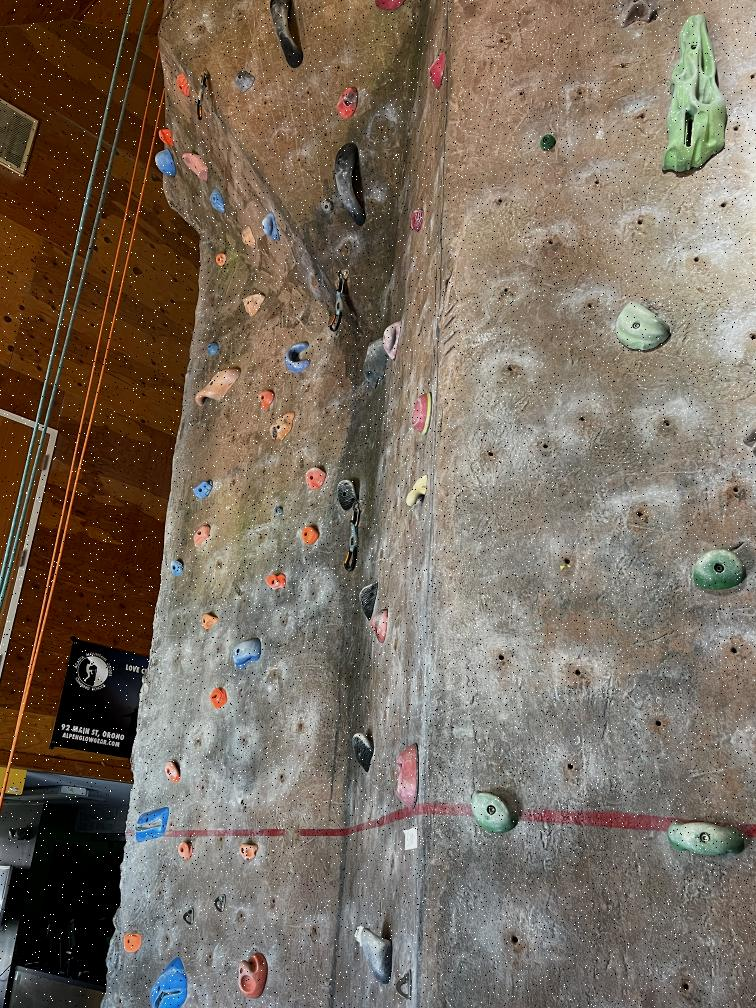Crimp: (598, 290, 682, 366), (185, 476, 222, 502), (426, 49, 446, 93), (404, 203, 426, 235), (207, 186, 228, 218), (172, 72, 193, 101), (256, 389, 276, 410), (238, 224, 256, 247)
Edges: (660, 2, 730, 195), (389, 734, 426, 823), (133, 804, 171, 844)
Foothold: (533, 127, 561, 156), (231, 69, 257, 95), (120, 930, 147, 955), (318, 193, 335, 218), (206, 340, 220, 359)
Jug: (690, 539, 748, 607), (332, 136, 371, 236), (461, 783, 524, 840), (356, 922, 396, 988), (187, 365, 243, 410), (269, 0, 303, 70), (232, 948, 275, 1003), (361, 333, 387, 390), (347, 728, 376, 776), (178, 146, 213, 185), (353, 578, 382, 623), (402, 472, 431, 515), (378, 318, 406, 362), (334, 472, 363, 514), (281, 340, 311, 380), (266, 411, 301, 443), (333, 84, 361, 122), (300, 462, 328, 494), (367, 609, 393, 643), (233, 839, 263, 867), (240, 293, 269, 318), (160, 758, 186, 785), (299, 523, 323, 550), (168, 552, 191, 580), (174, 838, 198, 864), (157, 125, 175, 147)
Pinch: (660, 806, 750, 870), (227, 638, 269, 672), (191, 517, 221, 551), (258, 211, 282, 244), (204, 684, 232, 711), (195, 611, 225, 635), (260, 572, 294, 593), (214, 252, 230, 268)
Pocket: (406, 386, 438, 440)
Sloper: (153, 147, 176, 181)
